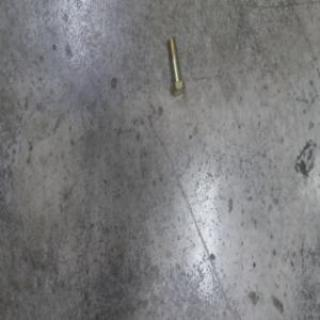Bolttrack_idkeyframe: (166, 35, 184, 96)
